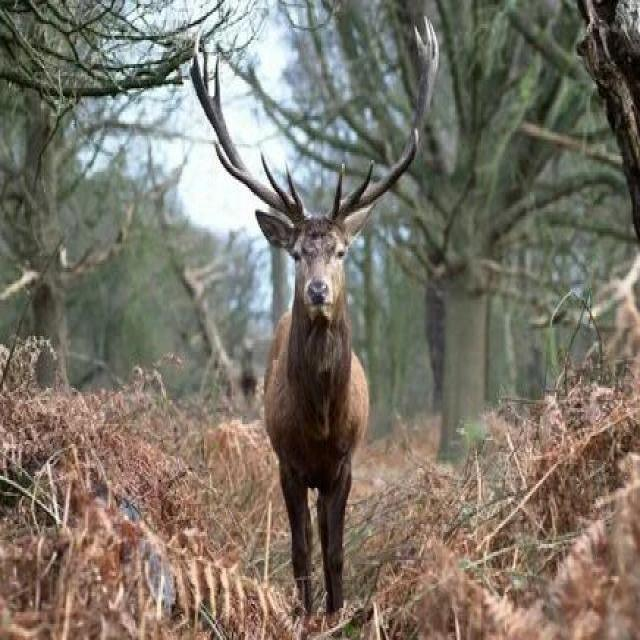deer: (178, 150, 504, 640)
